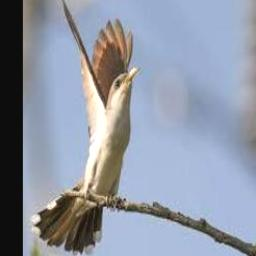Cuckoo: (31, 0, 140, 253)
